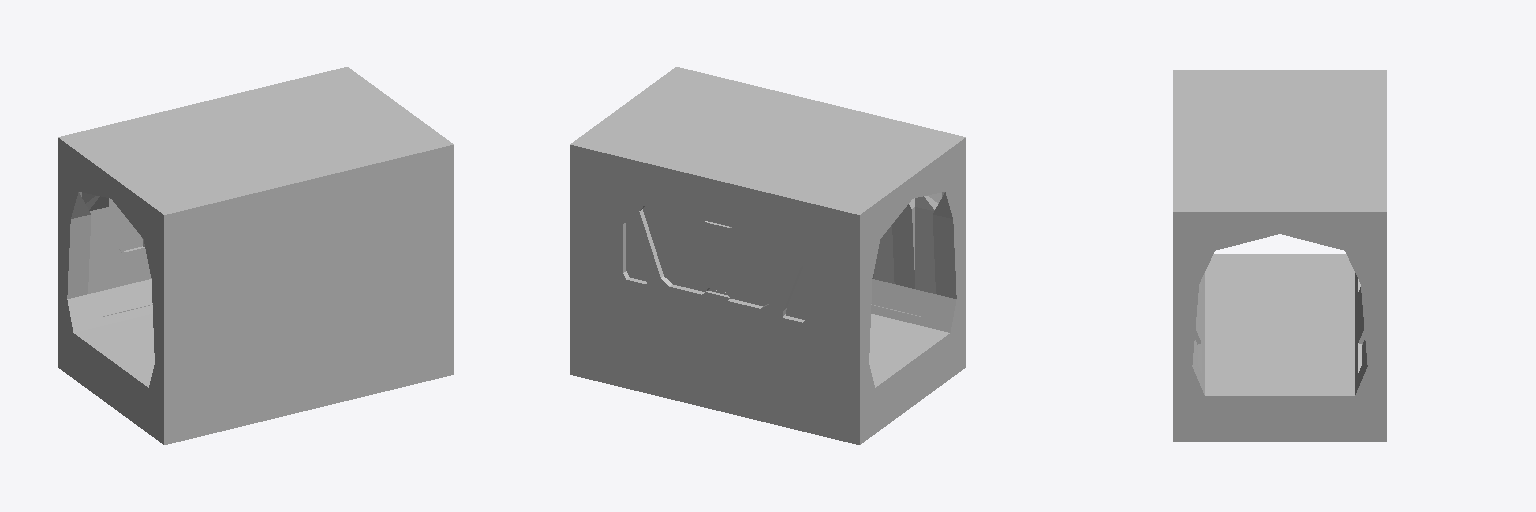
The model's file is Corridor Window.obj.
The picture shows the model from 3 angles: view 1: azimuth 30°, elevation 25°; view 2: azimuth 150°, elevation 25°; view 3: azimuth 270°, elevation 25°; orthographic projection.
Parts seen in each view (by area): view 1: SketchUp.004_ID31.001, SketchUp.045_ID289, SketchUp.031_ID205, SketchUp.047_ID301, SketchUp.059_ID373.001, SketchUp.030_ID199, SketchUp.017_ID117, SketchUp.026_ID173; view 2: SketchUp.045_ID289, SketchUp.004_ID31.001, SketchUp.110_ID481.001, SketchUp.031_ID205, SketchUp.051_ID325, SketchUp.056_ID355, SketchUp.054_ID343, SketchUp.050_ID319, SketchUp.058_ID367.001, SketchUp.021_ID141.001, SketchUp.002_ID17, SketchUp.105_ID451.001 (+1 smaller); view 3: SketchUp.004_ID31.001, SketchUp.045_ID289, SketchUp.031_ID205, SketchUp.008_ID57, SketchUp.059_ID373.001, SketchUp.056_ID355.
Boxes of the visible parts, x1,y1,x2,y2 form: SketchUp.004_ID31.001: [58, 67, 453, 444]; SketchUp.045_ID289: [58, 138, 163, 444]; SketchUp.031_ID205: [74, 314, 154, 387]; SketchUp.047_ID301: [67, 192, 95, 298]; SketchUp.059_ID373.001: [67, 279, 152, 332]; SketchUp.030_ID199: [109, 198, 151, 288]; SketchUp.017_ID117: [88, 207, 108, 293]; SketchUp.026_ID173: [100, 288, 152, 315]; SketchUp.045_ID289: [570, 138, 965, 444]; SketchUp.004_ID31.001: [570, 67, 965, 214]; SketchUp.110_ID481.001: [643, 206, 789, 305]; SketchUp.031_ID205: [869, 314, 949, 387]; SketchUp.051_ID325: [924, 192, 956, 298]; SketchUp.056_ID355: [871, 279, 956, 332]; SketchUp.054_ID343: [892, 198, 914, 288]; SketchUp.050_ID319: [915, 207, 935, 293]; SketchUp.058_ID367.001: [871, 288, 923, 315]; SketchUp.021_ID141.001: [874, 225, 894, 283]; SketchUp.002_ID17: [639, 206, 768, 308]; SketchUp.105_ID451.001: [786, 266, 805, 319]; SketchUp.004_ID31.001: [1173, 70, 1386, 211]; SketchUp.045_ID289: [1173, 212, 1386, 441]; SketchUp.031_ID205: [1205, 254, 1354, 395]; SketchUp.008_ID57: [1242, 298, 1317, 352]; SketchUp.059_ID373.001: [1355, 273, 1367, 394]; SketchUp.056_ID355: [1192, 273, 1204, 394].
Bounding box in the file's own units: 7.35 × 5.58 × 4.68.